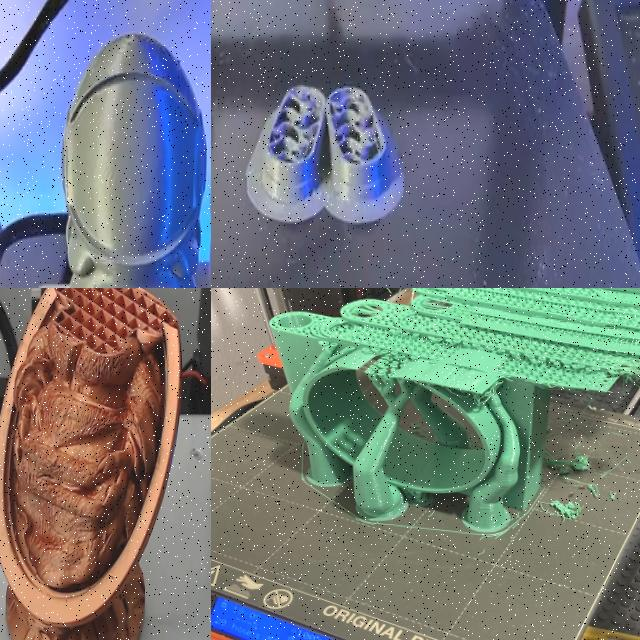spaghetti: (544, 454, 601, 484), (541, 496, 591, 526)
